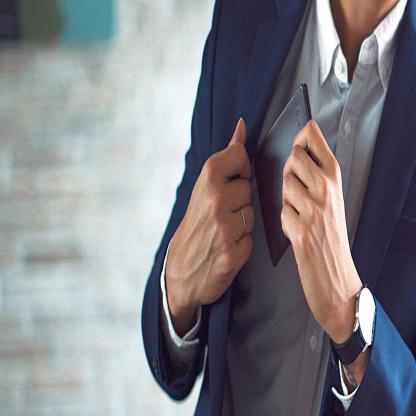monedero: (252, 81, 318, 271)
